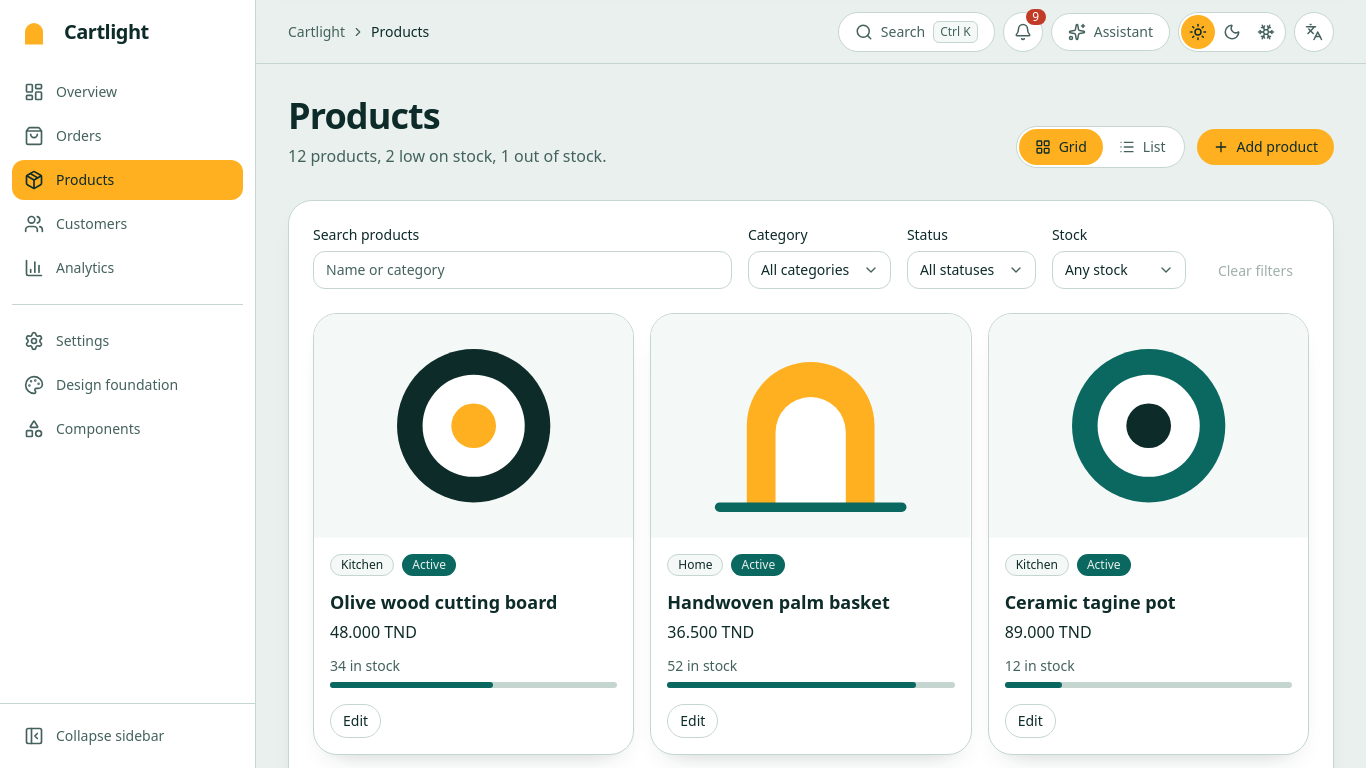
Test: product edit form › adds a new product
Expected: the heading "Products" is shown, [288,91,440,140]
Click the button "Add product" at (1265, 147), box [1197,129,1334,165]
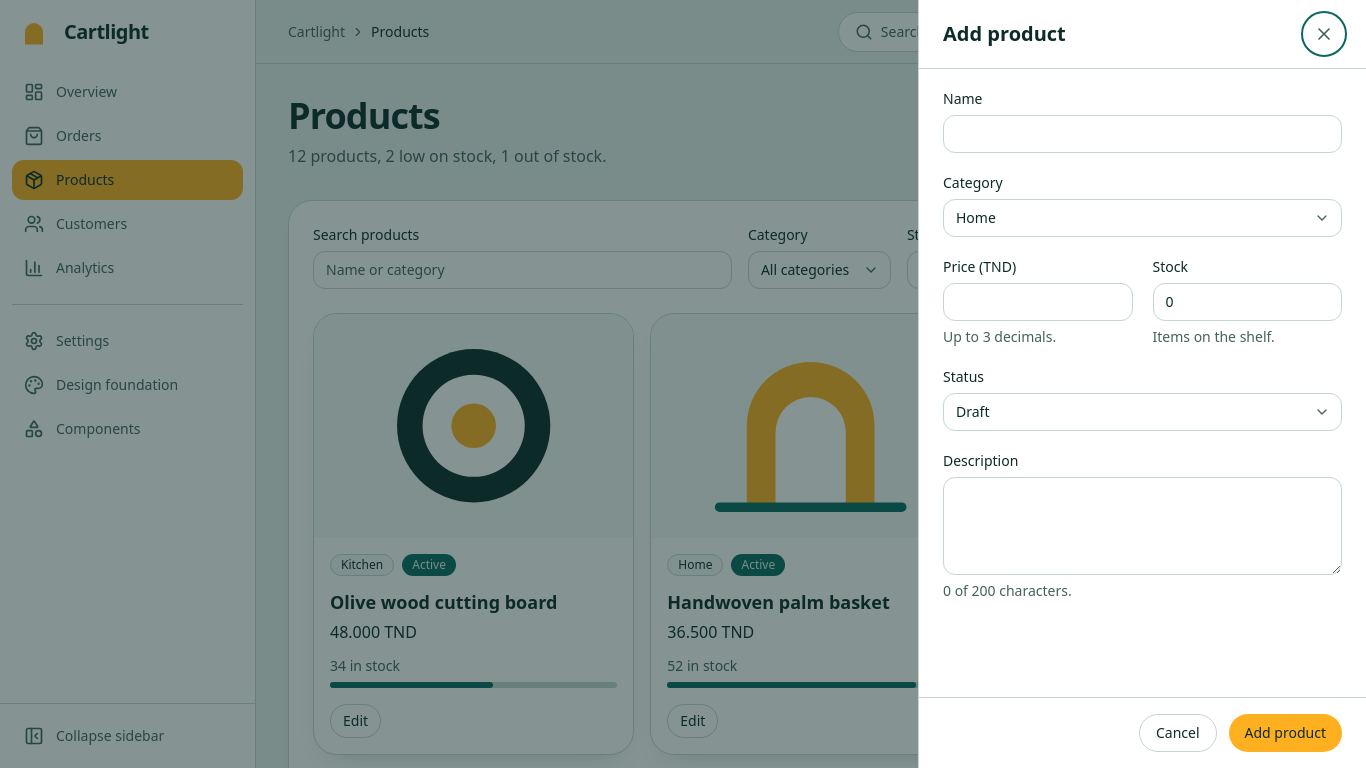
Type "Linen napkins" into the field labelled "Name" at (1142, 134), box [943,115,1342,153]
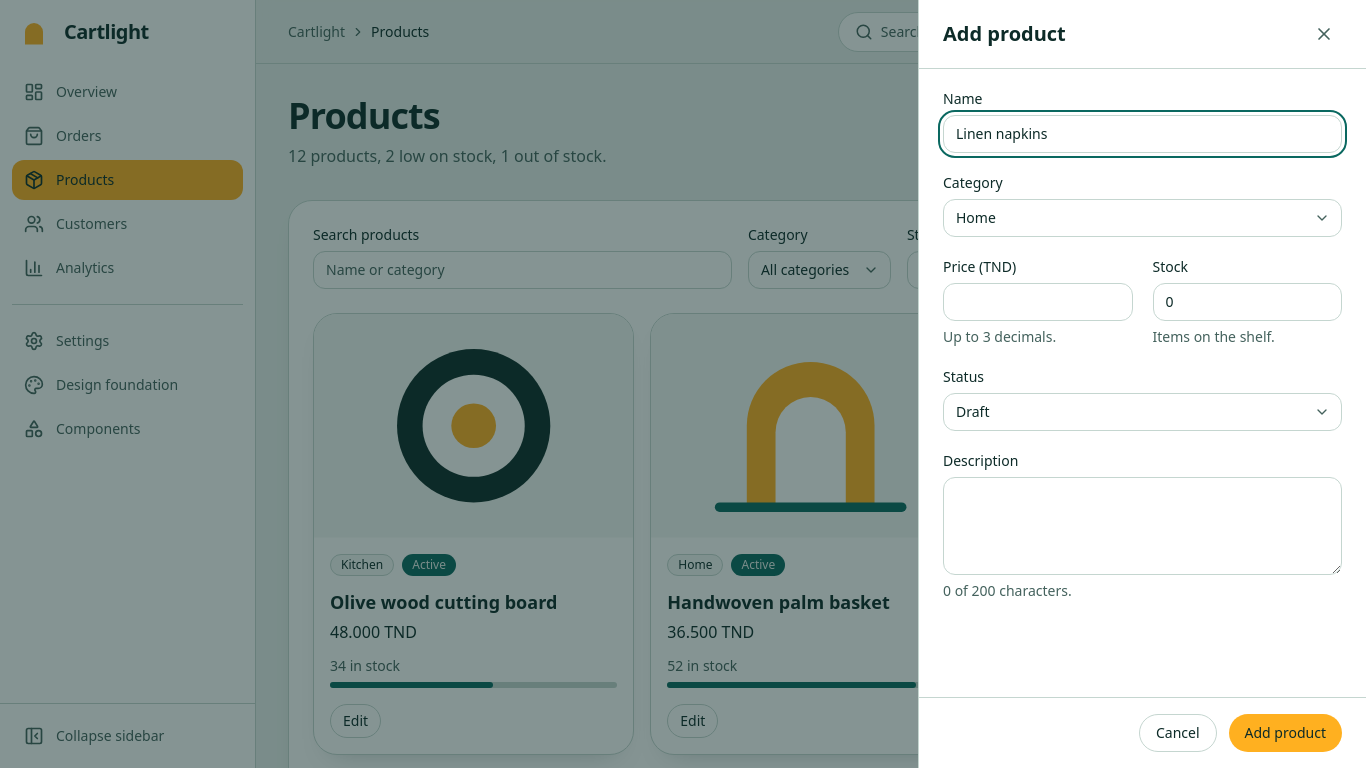
Type "24.5" into the number field labelled "Price (TND)" at (1038, 302), box [943,283,1132,321]
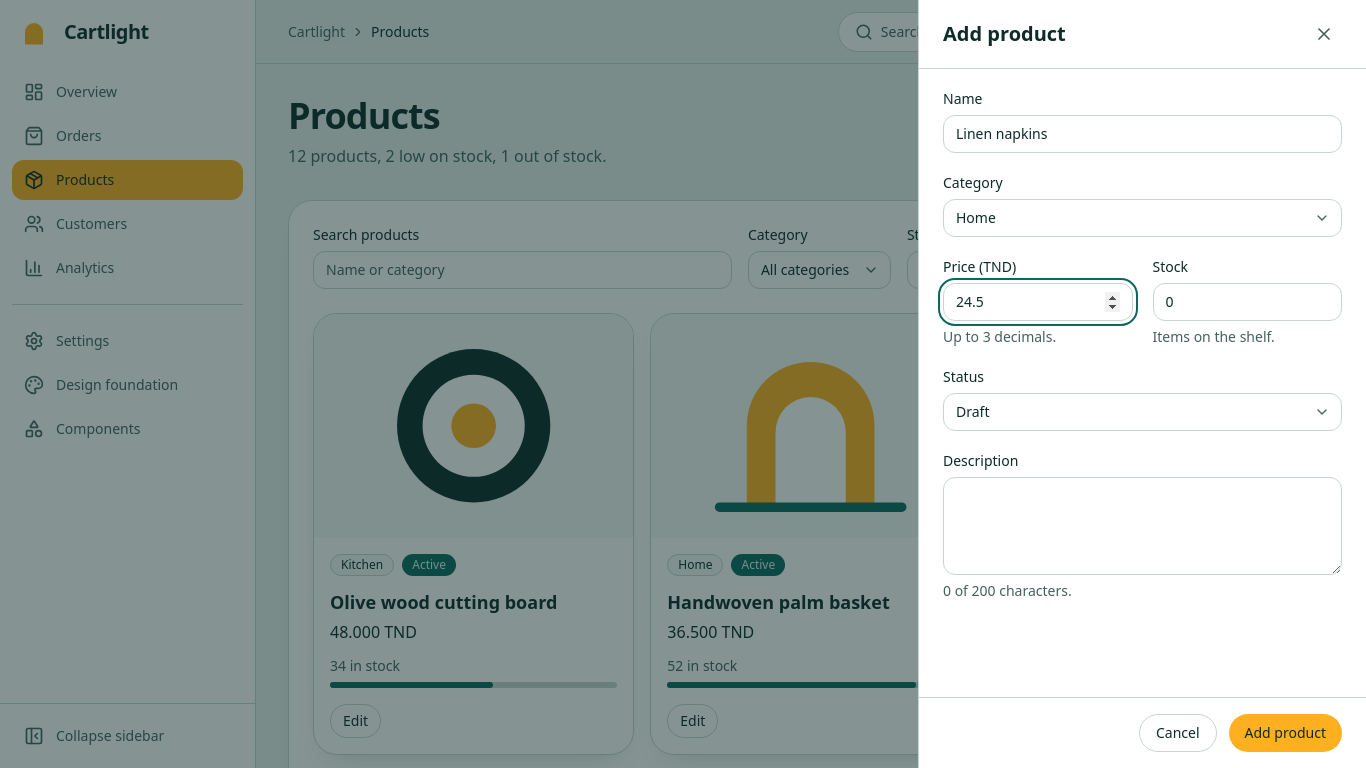
Replace the text in the number field labelled "Stock" with "4" at (1247, 302), box [1152,283,1342,321]
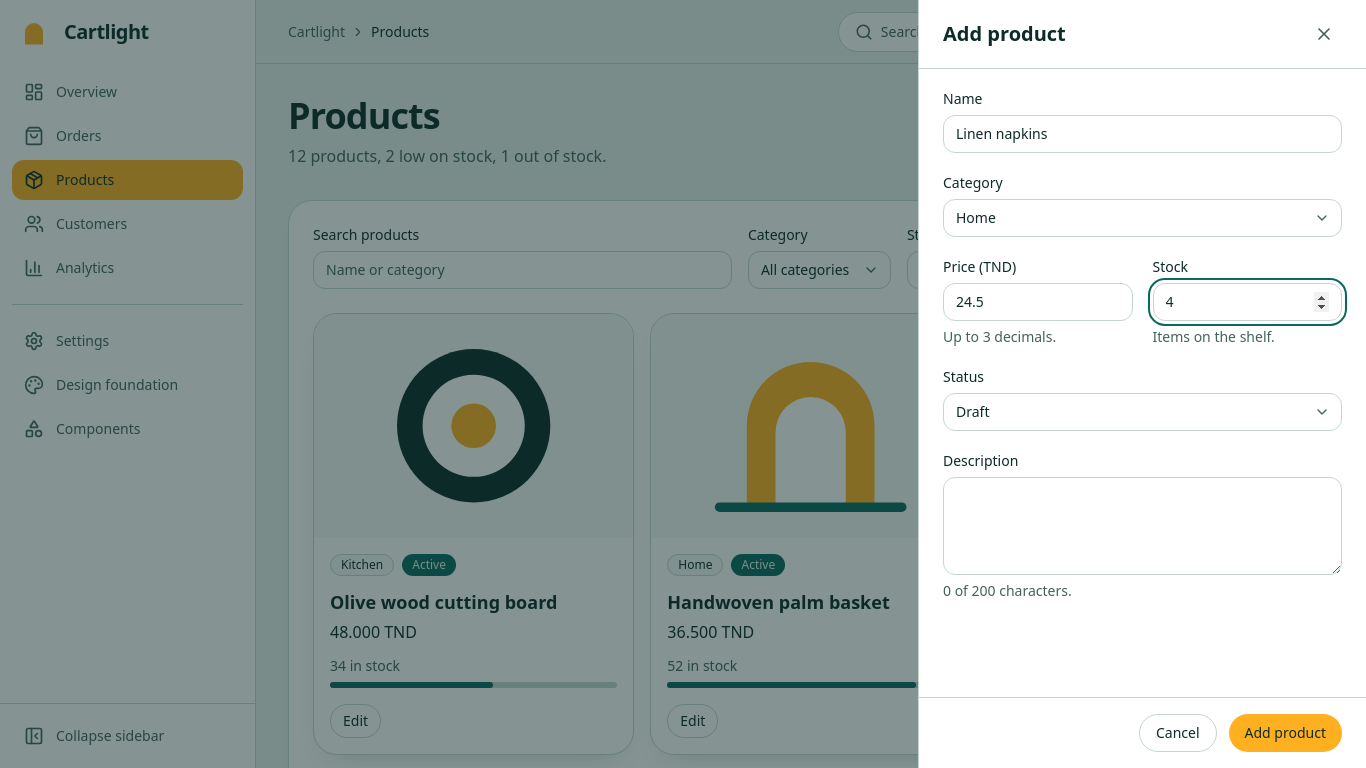
Click the button "Add product" at (1285, 733), box [1229,714,1342,752]
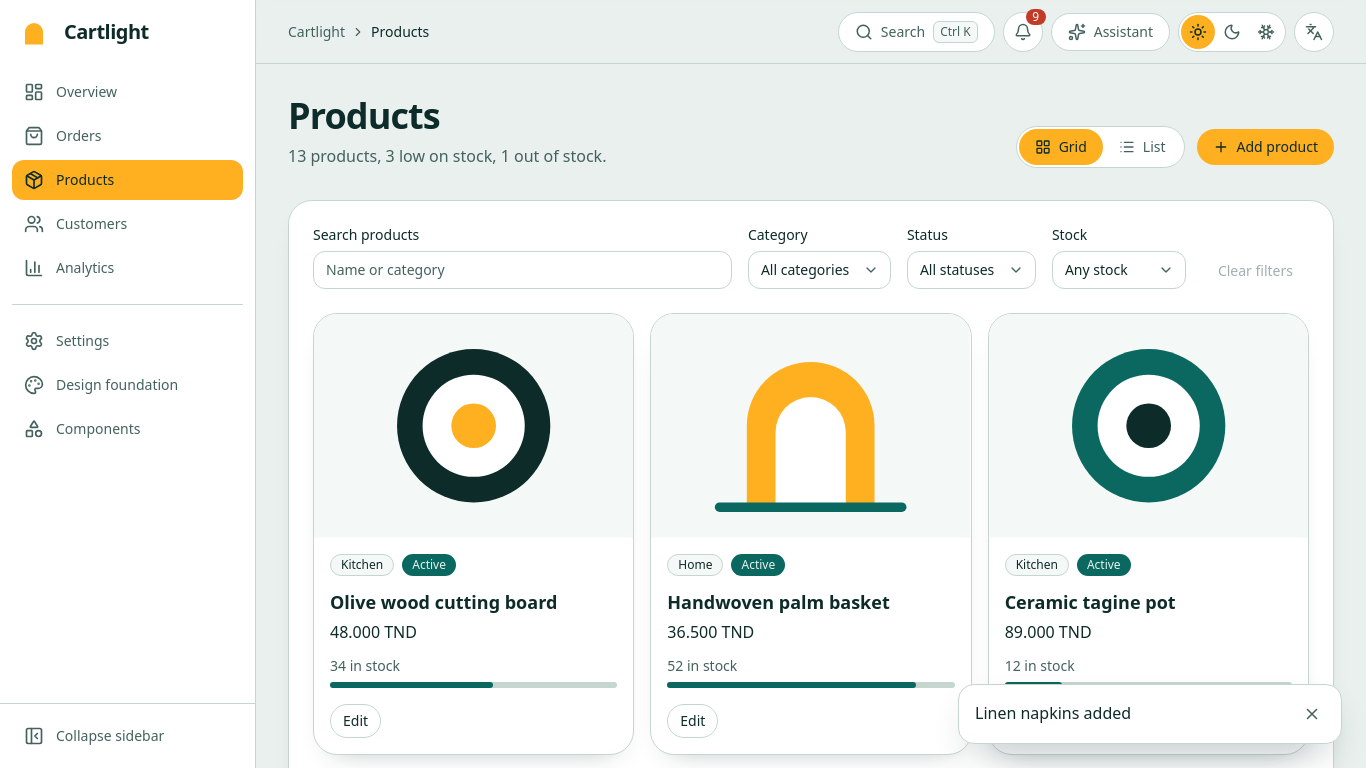
Now the text "Linen napkins added" is shown, box [975,702,1131,724]
Now the text "13 products, 3 low on stock, 1 out of stock." is shown, box [288,144,606,168]
